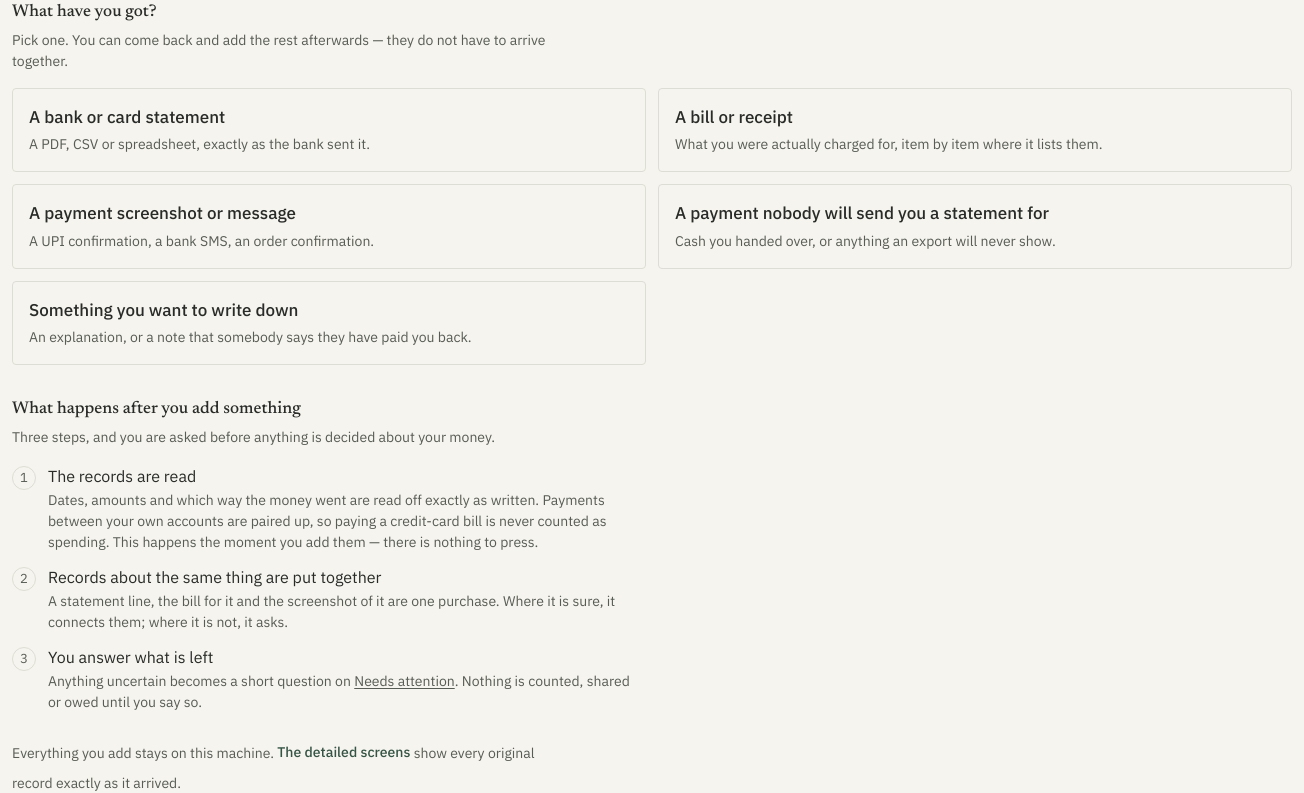
it: Add records › offers both ways to give it a payment screenshot
Click the button "A payment screenshot or message" at (162, 213), box [12, 184, 646, 268]
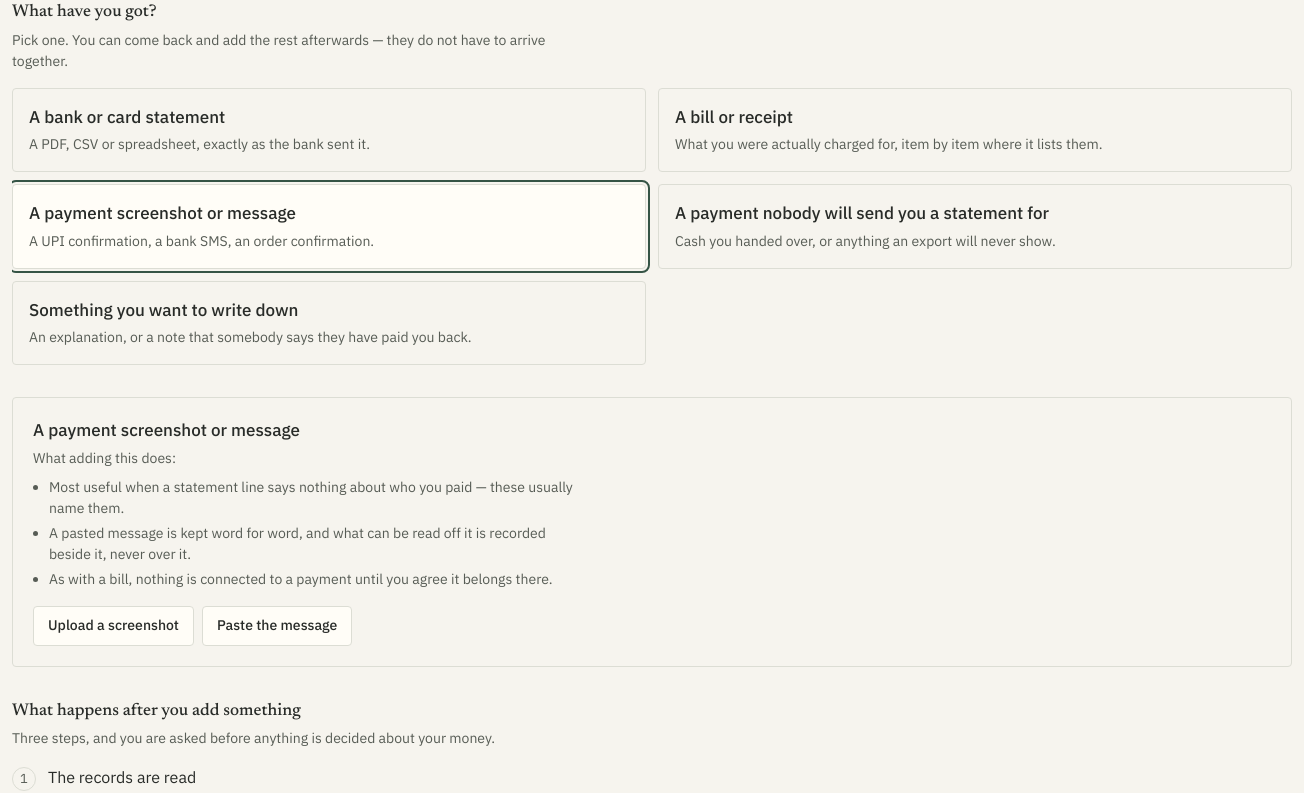
Expected: the button "Upload a screenshot" is shown, [33, 606, 194, 646]
Expected: the button "Paste the message" is shown, [202, 606, 352, 646]
